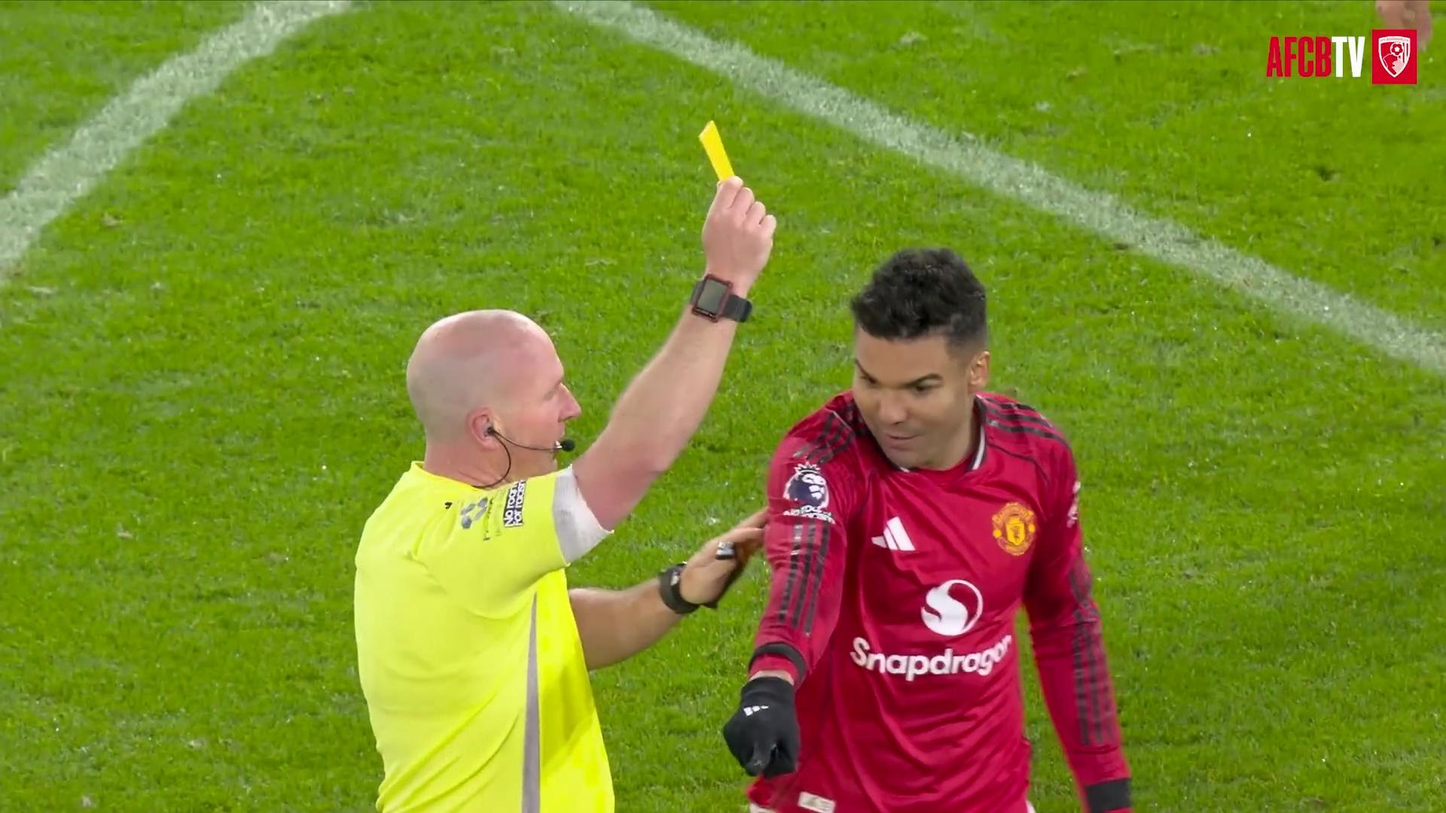player: (723, 251, 1130, 812), (1374, 0, 1432, 50)
referee: (354, 177, 775, 812)
